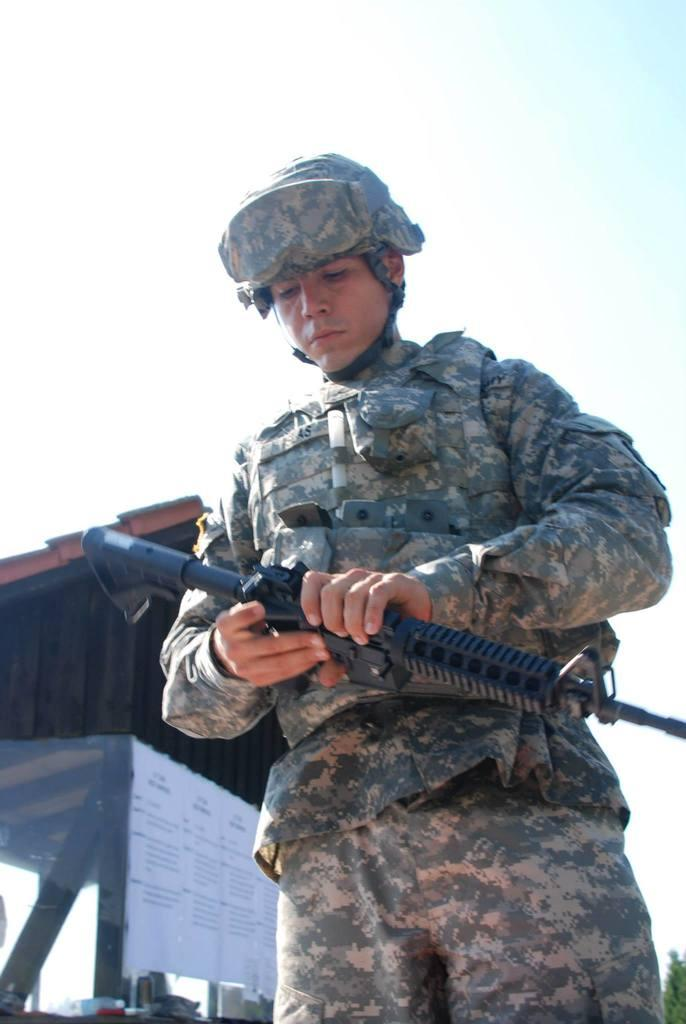Rifle: (88, 531, 657, 785)
